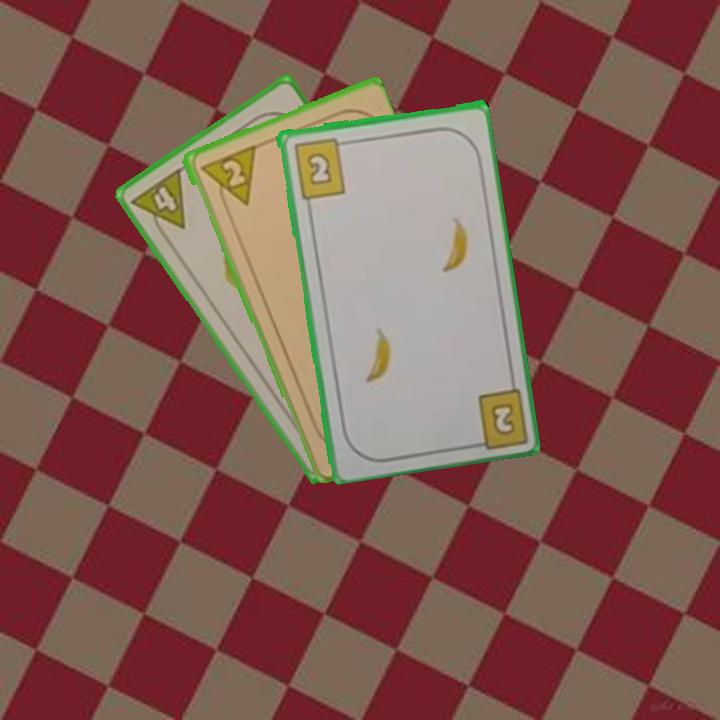2b: (289, 134, 351, 201), (487, 399, 518, 438)
2p: (194, 141, 258, 214)
4p: (127, 164, 188, 243)
